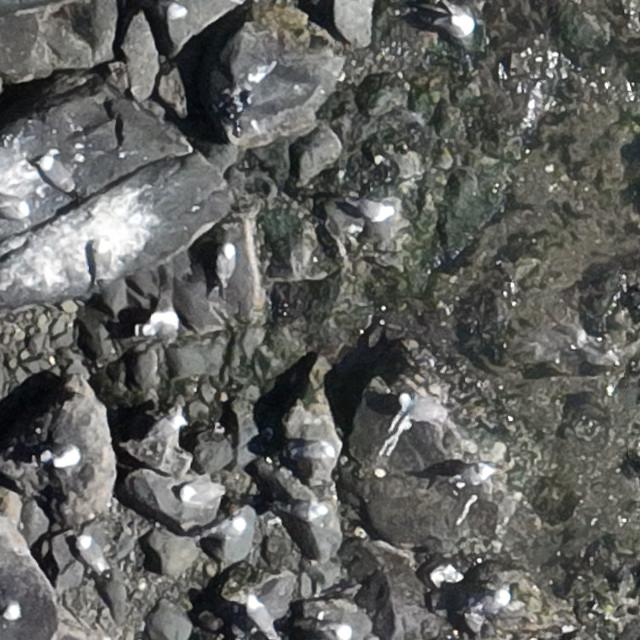umineko: (247, 591, 279, 640), (77, 534, 108, 579), (41, 154, 77, 192), (148, 412, 187, 446), (401, 394, 444, 422), (452, 462, 496, 488), (138, 312, 179, 338), (470, 590, 510, 616), (356, 198, 393, 222), (92, 235, 110, 281), (181, 482, 222, 502), (284, 502, 328, 520), (295, 442, 338, 460), (2, 192, 32, 217), (430, 14, 467, 34), (49, 446, 79, 468), (209, 520, 241, 540), (218, 246, 236, 281), (318, 624, 352, 638)
